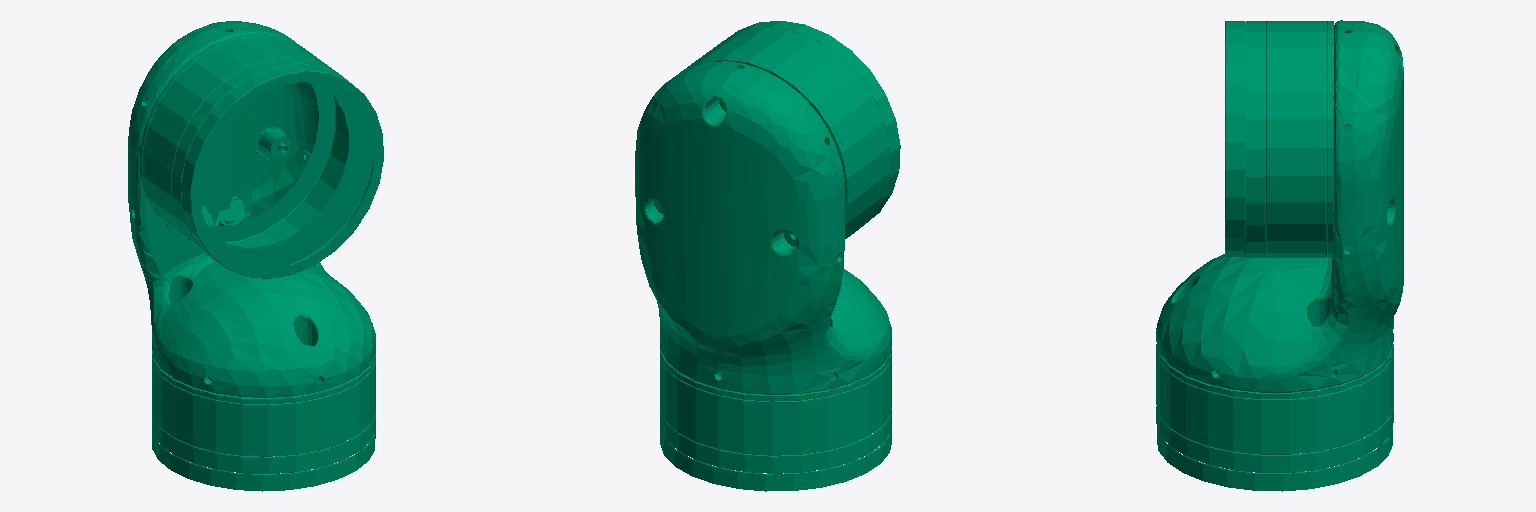
robot.urdf — igus_rebel:
<?xml version="1.0"?>
<robot name="igus_rebel" >

  <link name="world" />

  <link name="base_link">
    <visual>
      <geometry>
        <mesh filename="package://igus_rebel_description/meshes/robolink_rebel/Robolink_RebeL_000.dae"/>
      </geometry>
    </visual>
    <collision>
      <geometry>
        <mesh filename="package://igus_rebel_description/meshes/robolink_rebel/Robolink_RebeL_000.dae"/>
      </geometry>
    </collision>
    <inertial>
      <mass value="1.0" />
      <inertia ixx="1.0" iyy="1.0" izz="1.0" ixy="0.0" ixz="0.0" iyz="0.0" />
    </inertial>
  </link>

  <joint name="world_joint" type="fixed">
    <parent link="world" />
    <child link = "base_link" />
    <origin xyz="0.0 0.0 0.0" rpy="0.0 0.0 0.0" />
  </joint>


  <link name="link_1">
    <visual>
      <geometry>
        <mesh filename="package://igus_rebel_description/meshes/robolink_rebel/Robolink_RebeL_001.dae"/>
      </geometry>
      <origin rpy="0 0 3.1416" xyz="0.0 0.0 -0.0537"/>
    </visual>
    <collision>
      <geometry>
        <mesh filename="package://igus_rebel_description/meshes/robolink_rebel/Robolink_RebeL_001.dae"/>
      </geometry>
      <origin rpy="0 0 3.1416" xyz="0.0 0.0 -0.0537"/>
    </collision>
    <inertial>
      <mass value="0.1" />
      <inertia ixx="0.03" iyy="0.03" izz="0.03" ixy="0.0" ixz="0.0" iyz="0.0" />
    </inertial>
  </link>

  
  <joint name="joint1" type="revolute">
    <parent link="base_link"/>
    <child link="link_1"/>
    <origin rpy="0.0 0.0 3.1416" xyz="0.0 0 0.126"/>
    <axis xyz="0 0 -1"/>
    <limit effort="330.0" lower="-3.12414" upper="3.12414" velocity="2.16"/> <!-- limit taken from the controller -->
    <dynamics damping="0.0" friction="0.0"/>
  </joint>

</robot>

--- What the picture shows (computed from the rendered views, not written in the file) ---
3 views of the same robot in one strip: view 1: azimuth 30°, elevation 25°; view 2: azimuth 150°, elevation 25°; view 3: azimuth 270°, elevation 25° (orthographic).
Model igus_rebel with 3 links and 2 joints (1 revolute, 1 fixed), rooted at world, posed every joint at zero.
Links seen in each view (by area): view 1: link_1; view 2: link_1; view 3: link_1.
Link boxes in pixels (left/top/right/bottom): link_1: left=128, top=21, right=383, bottom=491; link_1: left=635, top=21, right=900, bottom=491; link_1: left=1156, top=20, right=1403, bottom=491.
Size in the robot's own frame: 0.105 by 0.1095 by 0.2004 metres.
Meshes: 2 distinct files referenced, 1 mesh visuals loaded (1 Collada DAE); not drawn: 1 (reference not matched to a file when rendering).